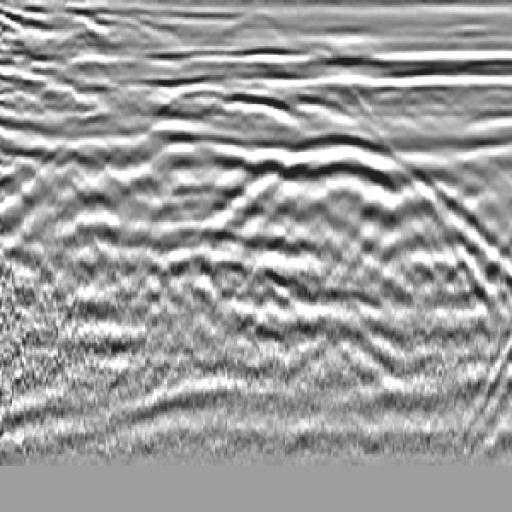non-metallic: (171, 106, 512, 382)
